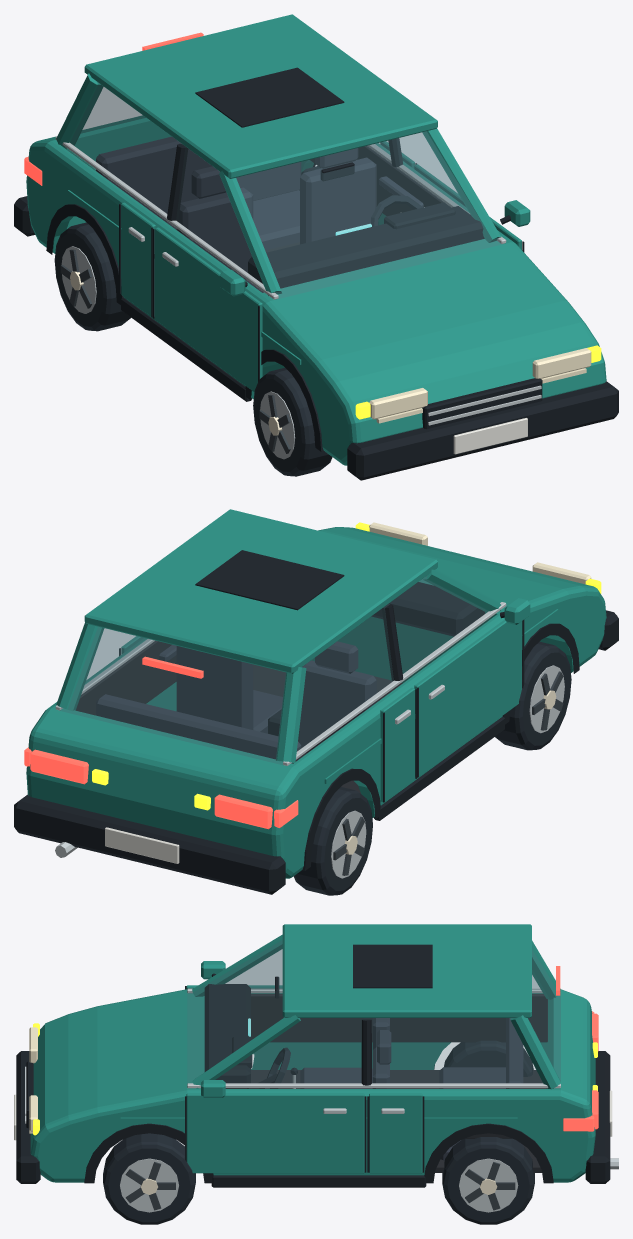
File: Car_Hatchback.fbx
3 renders of one model, top to bottom at view 1: azimuth 30°, elevation 25°; view 2: azimuth 150°, elevation 25°; view 3: azimuth 270°, elevation 25°, orthographic. The views are drawn at different scales.
Parts seen in each view (by area): view 1: Body.001, WindowCabin.001, Roof.001, DoorPanel_FR.001, FrontBumper.001, Dashboard.001, RearSeatBack.001, Sunroof, SeatBack.002, Tire_FR.001, Tire_RR.001, SeatBack.003 (+22 smaller); view 2: Body.001, WindowCabin.001, Roof.001, DoorPanel_FR.001, RearBumper.001, SeatBack.002, Sunroof, RearSeatBack.001, SeatBack.003, Tire_RR.001, Tire_FR.001, Dashboard.001 (+25 smaller); view 3: Body.001, WindowCabin.001, Roof.001, DoorPanel_FL.001, DoorTrim.003, Tire_FL.001, Tire_RL.001, DoorPanel_RL.001, Dashboard.001, Sunroof, SideSkirt_L.001, RearBumper.001 (+22 smaller).
Boxes of the visible parts, box(x1,y1,x2,y2) form: Body.001: box(26, 115, 606, 465); WindowCabin.001: box(70, 82, 501, 298); Roof.001: box(84, 14, 437, 178); DoorPanel_FR.001: box(155, 227, 262, 392); FrontBumper.001: box(347, 381, 618, 480); Dashboard.001: box(248, 206, 484, 288); RearSeatBack.001: box(96, 136, 301, 222); Sunroof: box(195, 67, 344, 127); SeatBack.002: box(300, 157, 376, 244); Tire_FR.001: box(253, 368, 332, 476); Tire_RR.001: box(54, 222, 130, 331); SeatBack.003: box(176, 187, 253, 280); Body.001: box(26, 527, 606, 878); WindowCabin.001: box(59, 576, 488, 765); Roof.001: box(84, 509, 437, 673); DoorPanel_FR.001: box(414, 619, 521, 776); RearBumper.001: box(14, 794, 285, 894); SeatBack.002: box(176, 646, 253, 729); Sunroof: box(195, 550, 344, 610); RearSeatBack.001: box(96, 694, 301, 763); SeatBack.003: box(300, 660, 376, 753); Tire_RR.001: box(293, 787, 372, 895); Tire_FR.001: box(495, 641, 571, 750); Dashboard.001: box(371, 582, 484, 636); Body.001: box(30, 989, 595, 1182); WindowCabin.001: box(187, 940, 560, 1082); Roof.001: box(282, 924, 531, 1017); DoorPanel_FL.001: box(186, 1093, 364, 1173); DoorTrim.003: box(251, 994, 547, 1042); Tire_FL.001: box(103, 1133, 195, 1224); Tire_RL.001: box(442, 1137, 534, 1224); DoorPanel_RL.001: box(369, 1093, 422, 1173); Dashboard.001: box(204, 984, 250, 1088); Sunroof: box(353, 944, 432, 988); SideSkirt_L.001: box(211, 1175, 426, 1187); RearBumper.001: box(585, 1051, 610, 1183).
Size of the model in its own units: 2.04 by 1.56 by 4.18.
